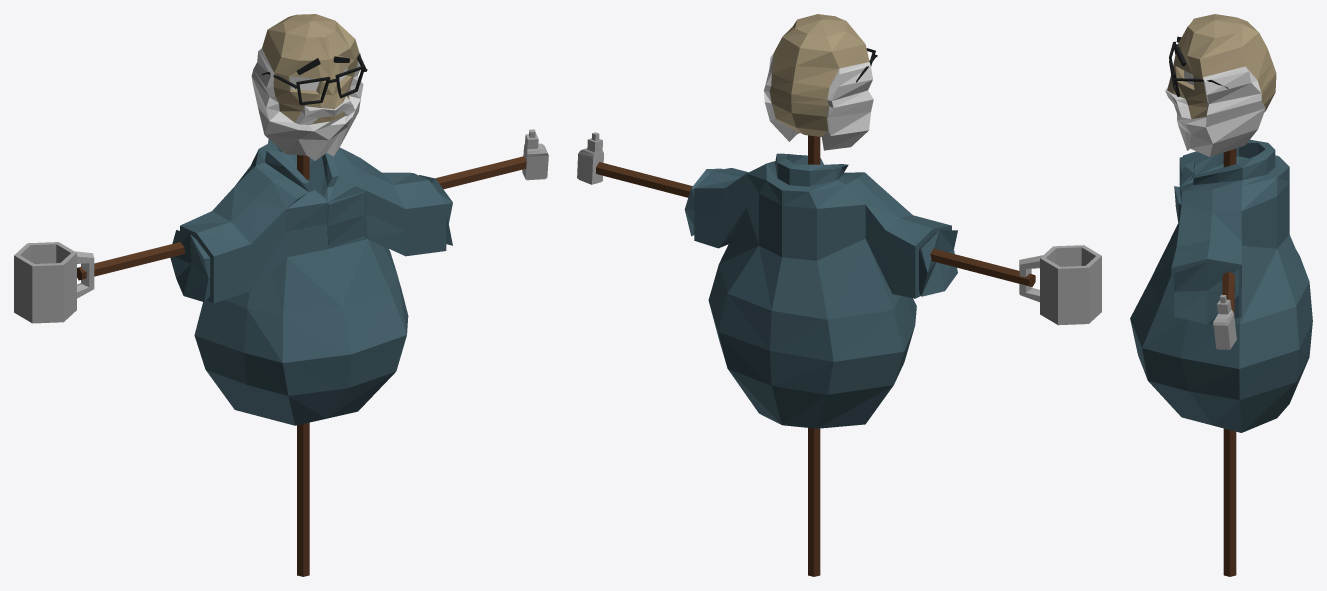
The model's file is Scarecrow.fbx.
3 renders of one model, left to right at view 1: azimuth 30°, elevation 25°; view 2: azimuth 150°, elevation 25°; view 3: azimuth 270°, elevation 25°, orthographic.
Visible parts, largest first — view 1: pCylinder7; view 2: pCylinder7; view 3: pCylinder7.
Part boxes in pixels (bbox=[...]): pCylinder7: bbox=[14, 14, 548, 576]; pCylinder7: bbox=[577, 14, 1101, 576]; pCylinder7: bbox=[1130, 14, 1312, 576].
Bounding box in the file's own units: 26.82 × 27.23 × 8.15.
